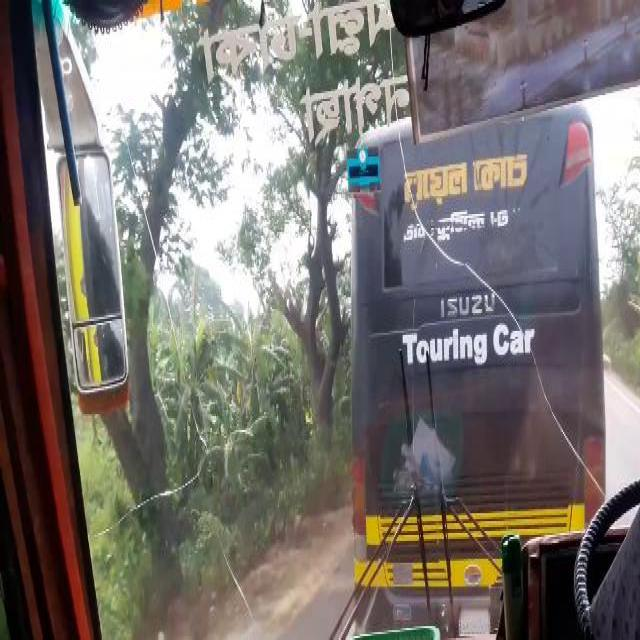vehicle: (351, 131, 609, 630)
